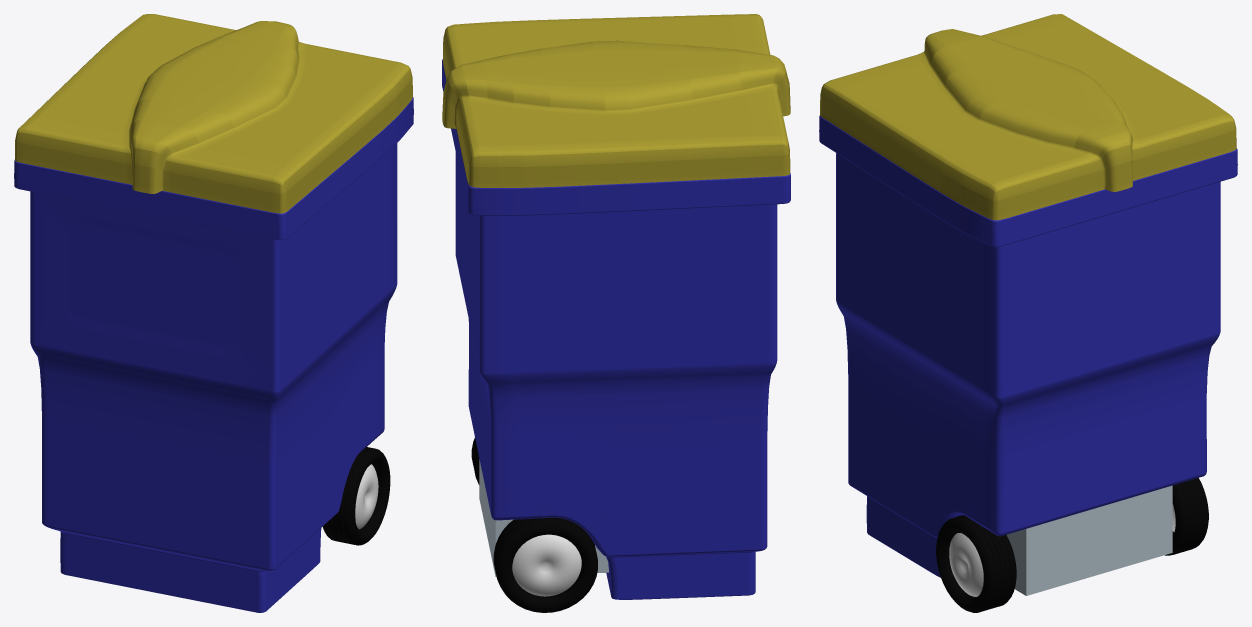
Rendered from ljton .fbx.
3 views of the same model, side by side, from view 1: azimuth 30°, elevation 25°; view 2: azimuth 150°, elevation 25°; view 3: azimuth 270°, elevation 25° (orthographic). The views are drawn at different scales.
Parts seen in each view (by area): view 1: Tampa03; view 2: Tampa03; view 3: Tampa03.
Boxes of the visible parts, left/top/right/bottom form: Tampa03: left=14, top=14, right=413, bottom=612; Tampa03: left=442, top=14, right=790, bottom=612; Tampa03: left=819, top=14, right=1237, bottom=612.
Size of the model in its own units: 598 by 733 by 594.
